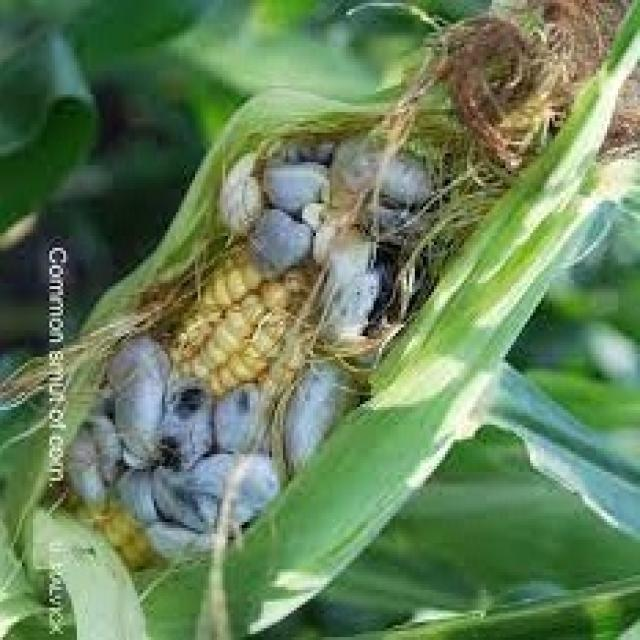Leaf_Scald: (31, 63, 501, 594)
